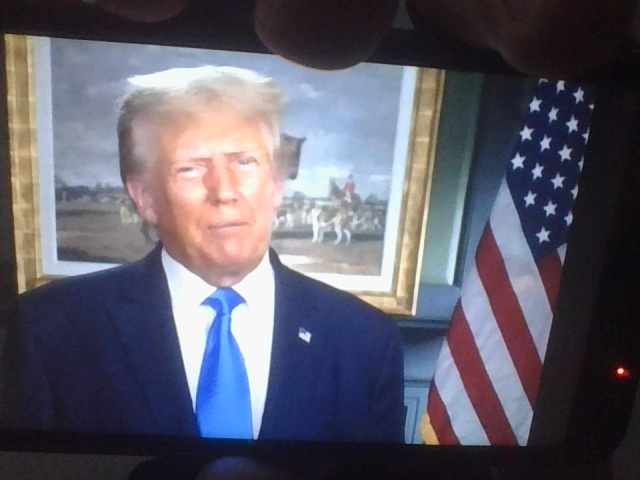fake: (142, 62, 293, 276)
